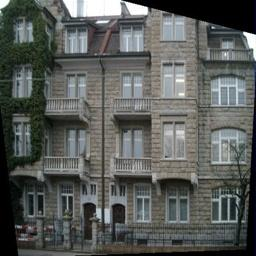building: (40, 13, 254, 249)
